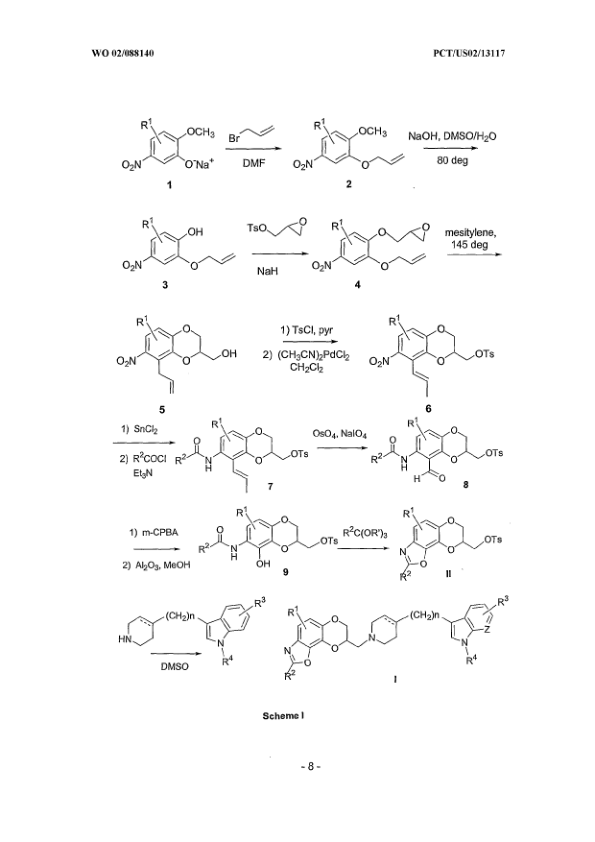compound-structure: (278, 594, 517, 689), (369, 402, 502, 496), (361, 308, 494, 399), (175, 411, 310, 496), (113, 589, 268, 663), (192, 505, 340, 572), (114, 310, 236, 391), (391, 503, 502, 582), (120, 211, 234, 281), (295, 113, 406, 176), (122, 108, 215, 182), (311, 216, 428, 273), (218, 120, 279, 145), (243, 216, 305, 237)
reaction: (99, 95, 524, 701)
reaction-arrow: (100, 584, 273, 679), (260, 313, 356, 378), (108, 413, 171, 487), (241, 213, 310, 278), (218, 108, 290, 169), (407, 123, 501, 169), (119, 523, 191, 575), (436, 224, 507, 269), (314, 425, 366, 465), (342, 525, 393, 555)
